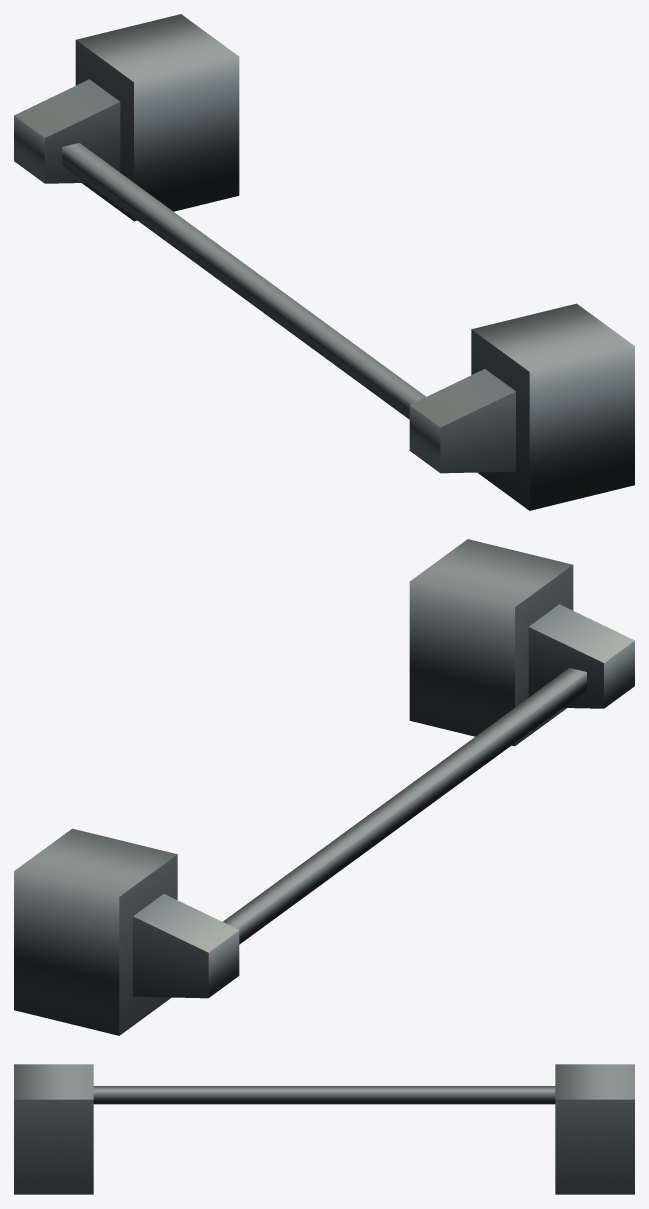
Rendered from TSP_Bathroom_Wall_Mount_03A.fbx.
The picture shows the model from 3 angles, top to bottom: view 1: azimuth 30°, elevation 25°; view 2: azimuth 150°, elevation 25°; view 3: azimuth 270°, elevation 25°; orthographic projection. The views are drawn at different scales.
Visible parts, largest first — view 1: TSP_Bathroom_Wall_Mount_03A; view 2: TSP_Bathroom_Wall_Mount_03A; view 3: TSP_Bathroom_Wall_Mount_03A.
Boxes of the visible parts, box(x1,y1,x2,y2) form: TSP_Bathroom_Wall_Mount_03A: box(14, 14, 634, 510); TSP_Bathroom_Wall_Mount_03A: box(14, 539, 634, 1035); TSP_Bathroom_Wall_Mount_03A: box(14, 1064, 634, 1194).
Bounding box in the file's own units: 0.1716 × 0.126 × 0.7458.
